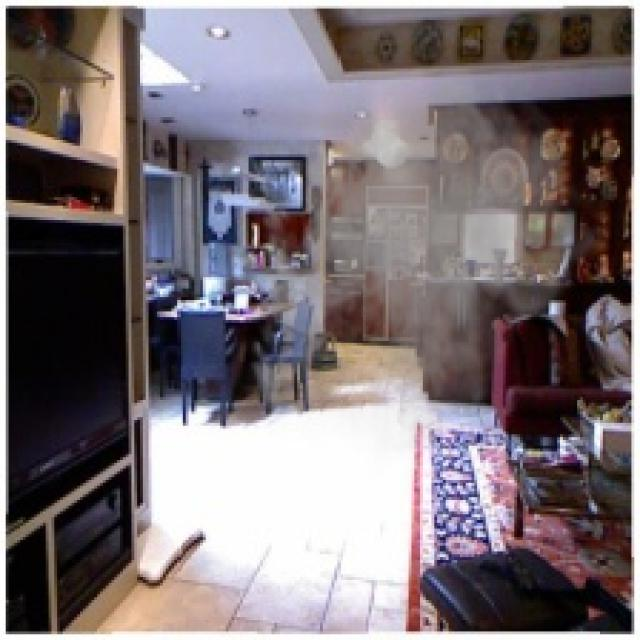smoke: (240, 52, 600, 477)
